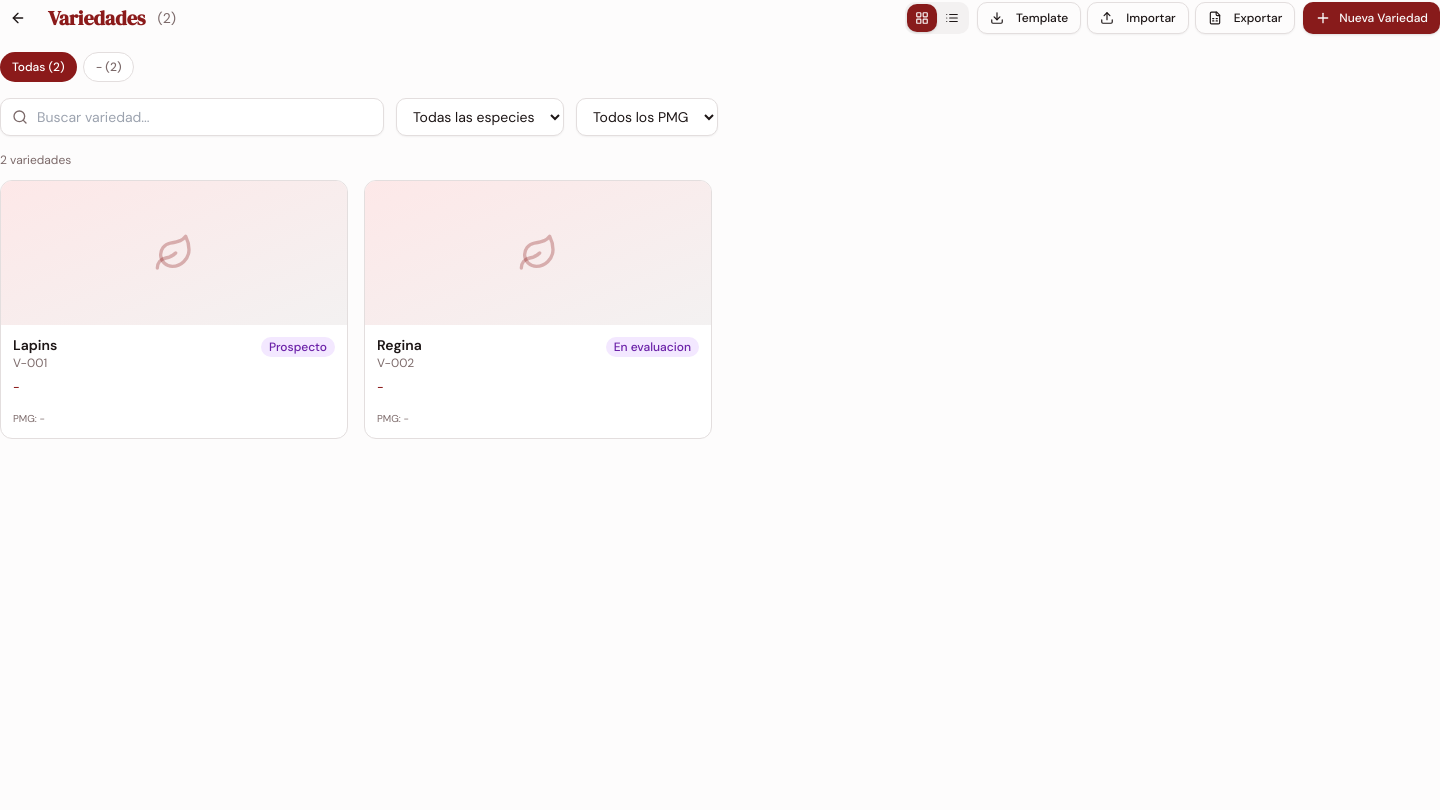
Scenario: VariedadesPage: buttons and dialogs › CrudForm opens when clicking Editar in DETAIL view
The width and height of the screenshot is (1440, 810).
# Enter detail view
What coordinates should you click on to do the following:
click the heading "Lapins"
I would click on:
 (35, 346)
Its box is left=13, top=337, right=57, bottom=354.
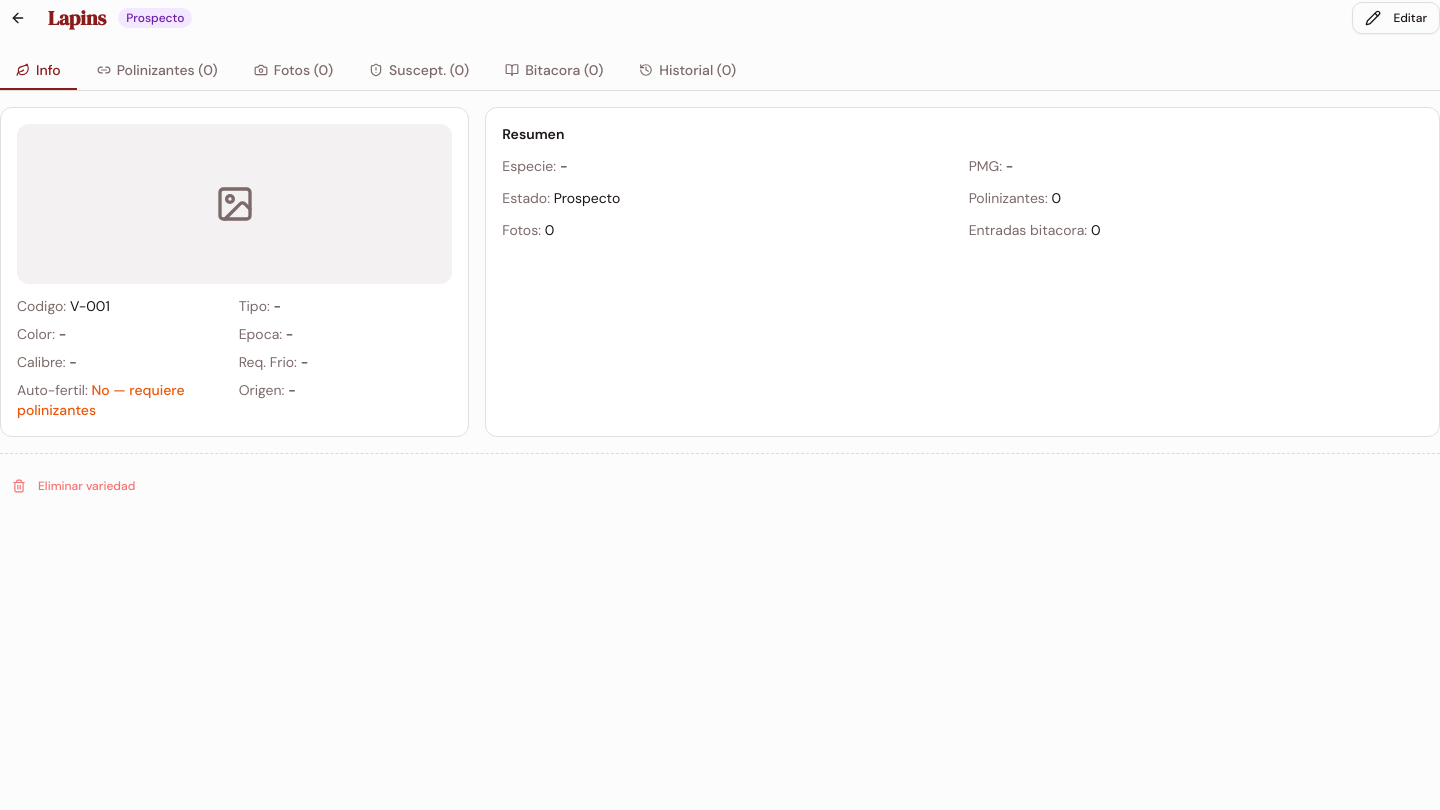
# Click Editar
What coordinates should you click on to do the following:
click the button "Editar"
I would click on:
 (1396, 18)
Its box is left=1352, top=2, right=1439, bottom=34.
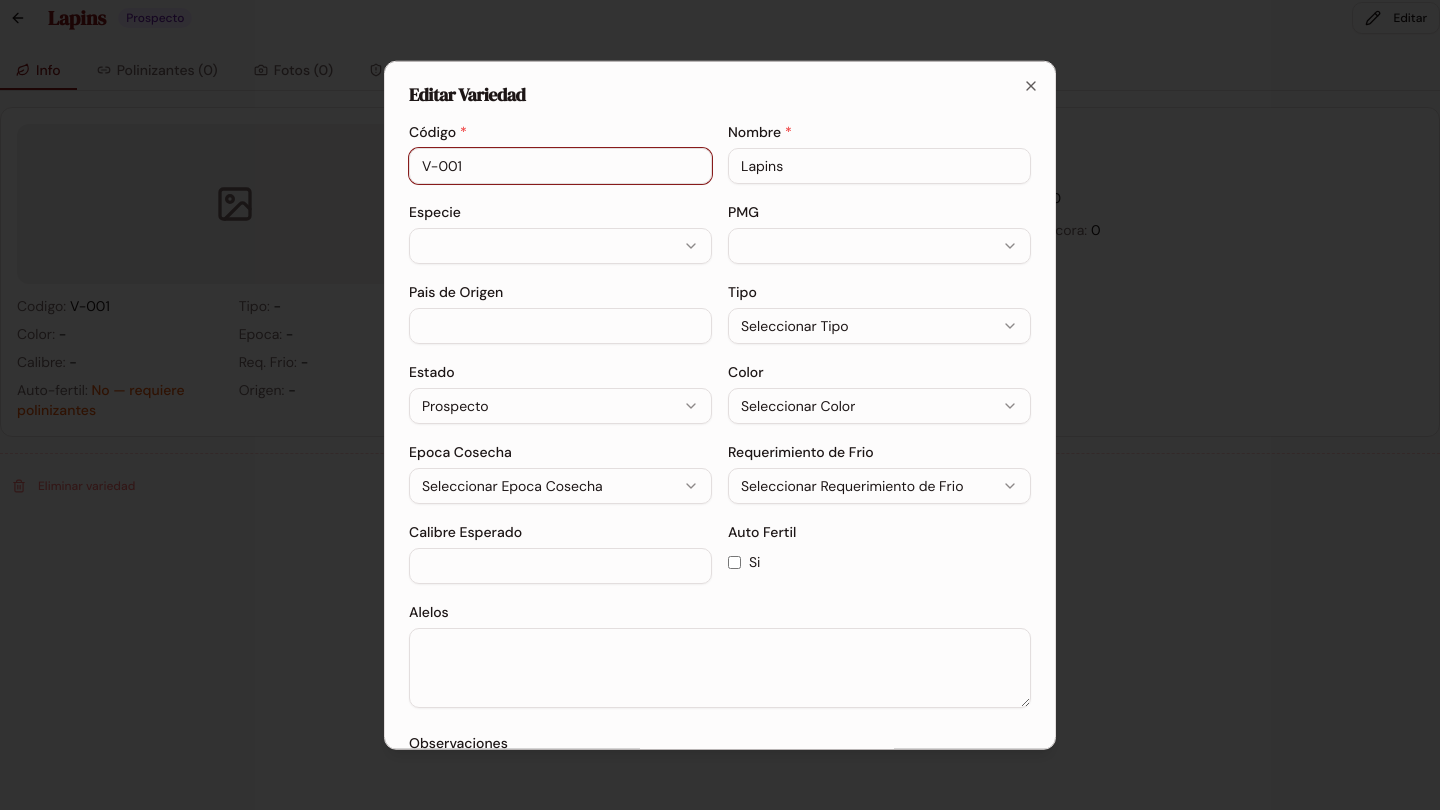
Check: the heading "Editar Variedad" is shown, box left=409, top=82, right=526, bottom=107
